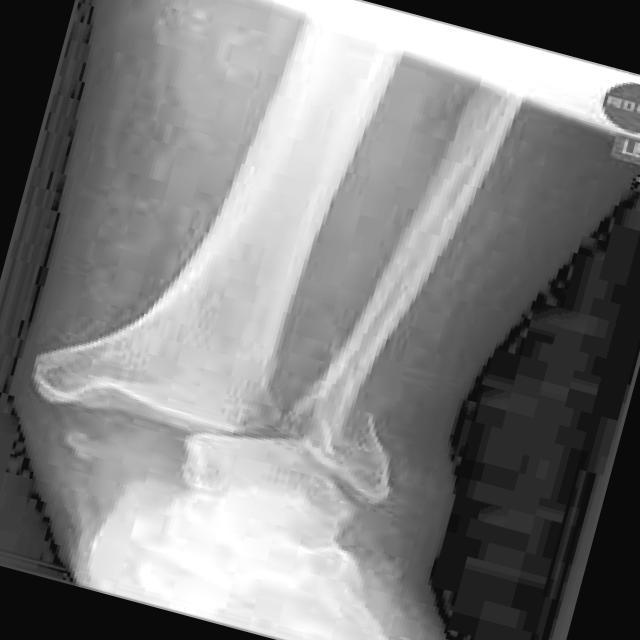Fracture Dislocation: (294, 370, 397, 515)
